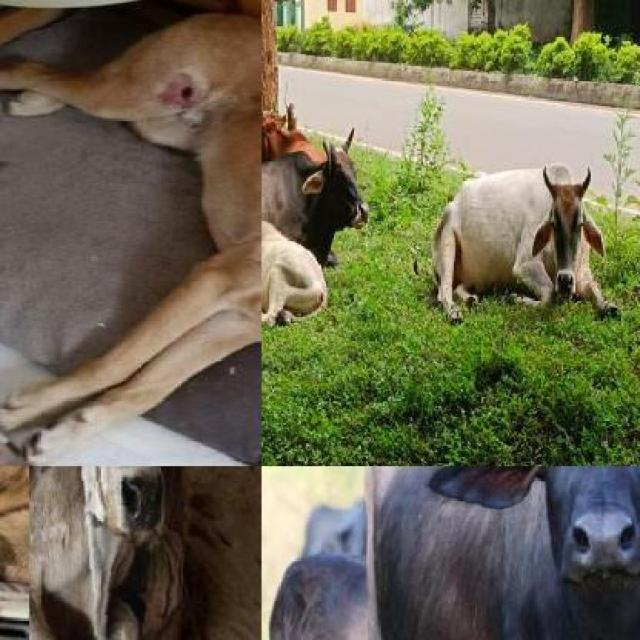buffalo: (372, 466, 640, 640)
cow: (29, 466, 216, 640), (438, 178, 599, 322), (262, 131, 372, 243), (262, 208, 326, 329), (262, 109, 298, 160)
dog: (0, 8, 262, 466)
injured: (166, 76, 226, 136)
